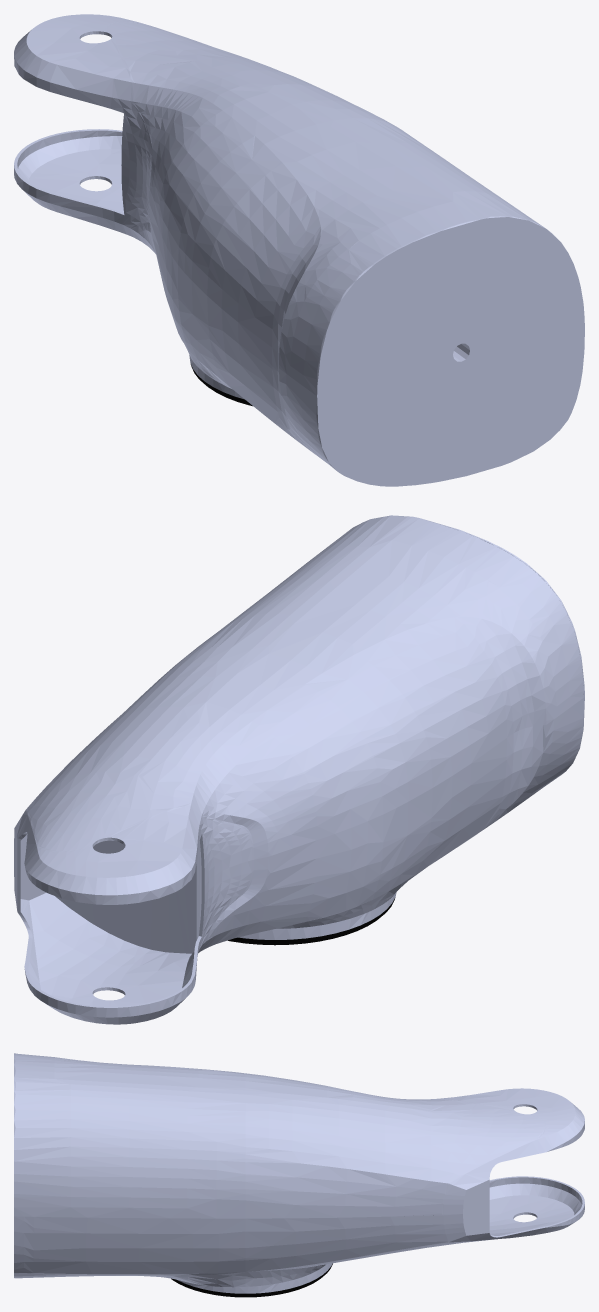
Rendered from left_hip_yaw_link.dae.
3 views of the same model, one above another, from view 1: azimuth 30°, elevation 25°; view 2: azimuth 150°, elevation 25°; view 3: azimuth 270°, elevation 25° (orthographic). The views are drawn at different scales.
Parts seen in each view (by area): view 1: left_hip_yaw_link; view 2: left_hip_yaw_link; view 3: left_hip_yaw_link.
Part boxes in pixels (x1=…): left_hip_yaw_link: x1=14, y1=14, x2=584, y2=486; left_hip_yaw_link: x1=14, y1=515, x2=584, y2=1024; left_hip_yaw_link: x1=14, y1=1053, x2=584, y2=1297.
Bounding box in the file's own units: 0.1451 × 0.1298 × 0.3544.
